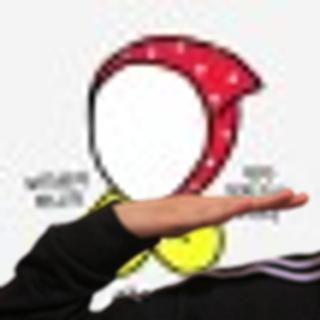Wait: (113, 176, 312, 246)
